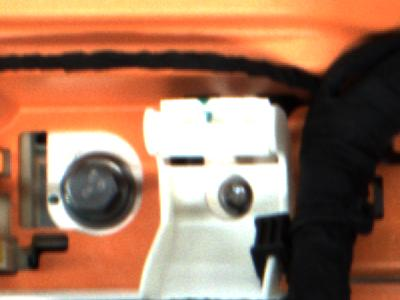nut_b: (61, 152, 138, 227)
